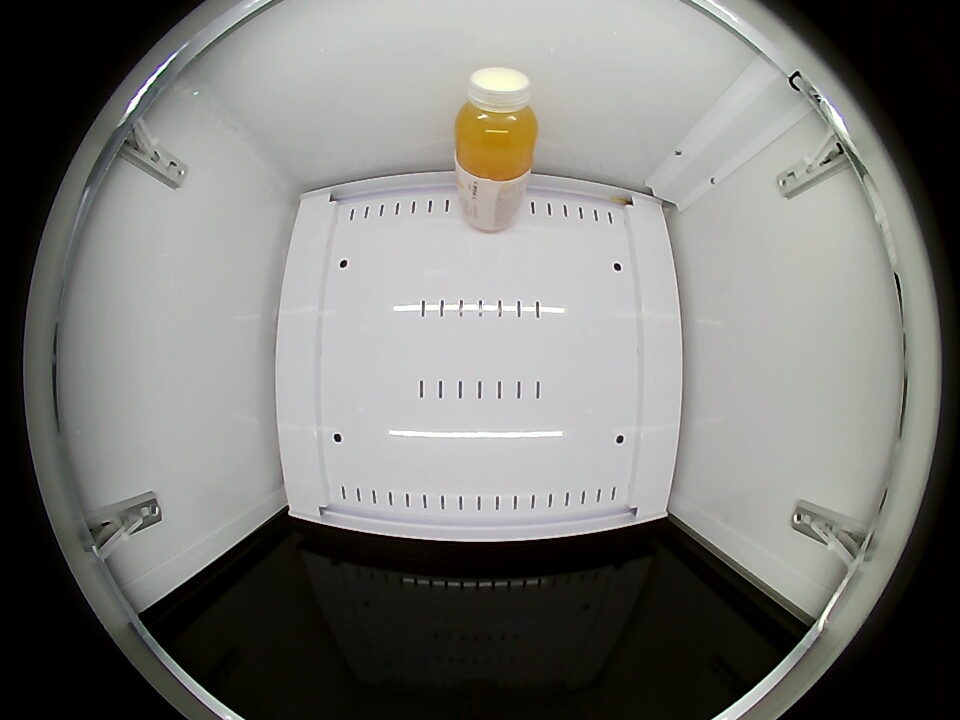weic: (454, 67, 538, 180)
